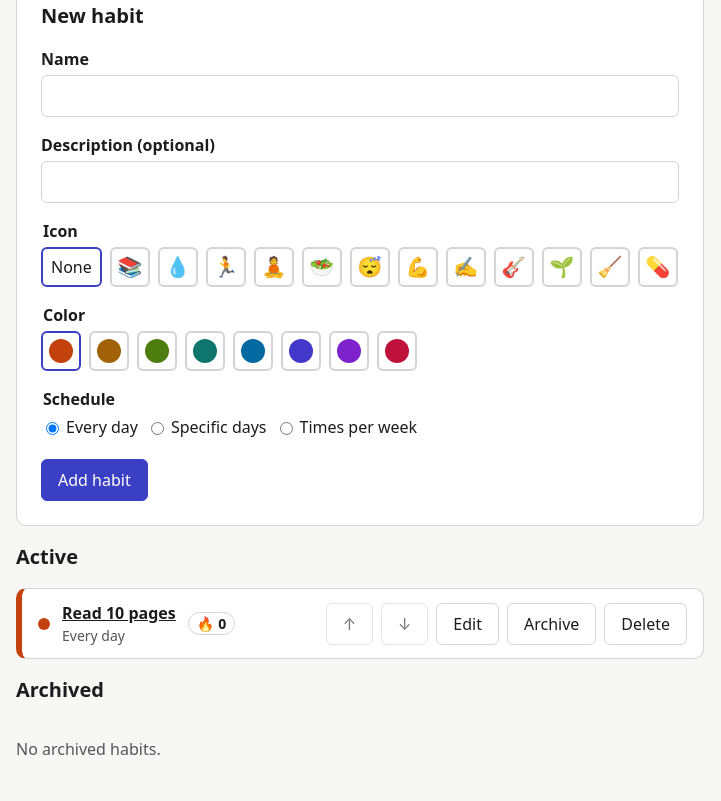
spec 002 US2 - Edit a habit › given an edit form, when cancelled, then nothing is persisted
The image size is (721, 801).
(page scrolled)
Click the button with aria-label "Edit Read 10 pages". click: x=468, y=624
box: left=436, top=602, right=499, bottom=644
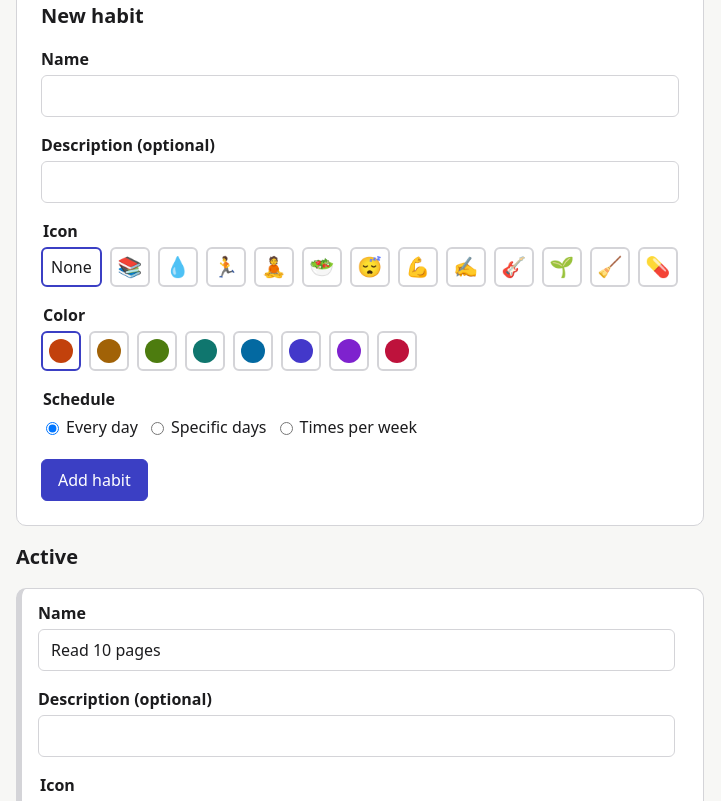
Replace the text in the field labelled "Name" below "Active" with "Changed". click: x=356, y=650
box: left=38, top=629, right=675, bottom=671
(page scrolled)
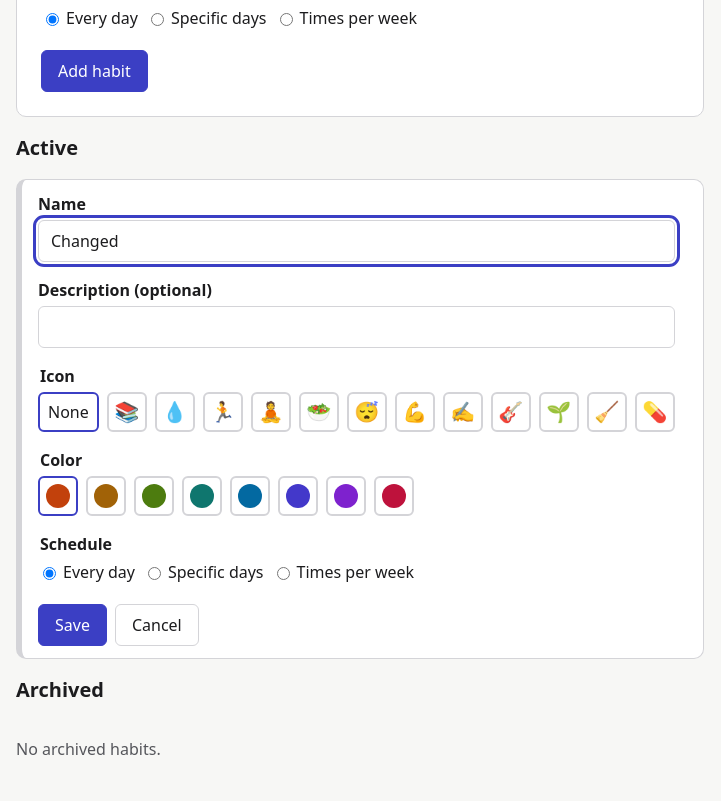
Click the button "Cancel". click: x=157, y=625
box: left=115, top=604, right=199, bottom=646
(page scrolled)
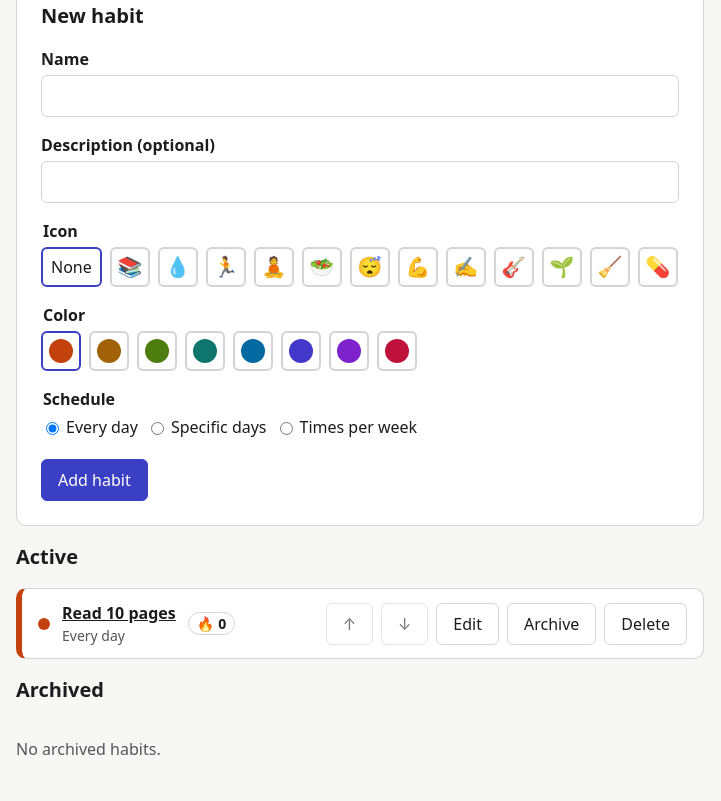
Expected: the link "Read 10 pages" is shown, left=62, top=602, right=176, bottom=624
